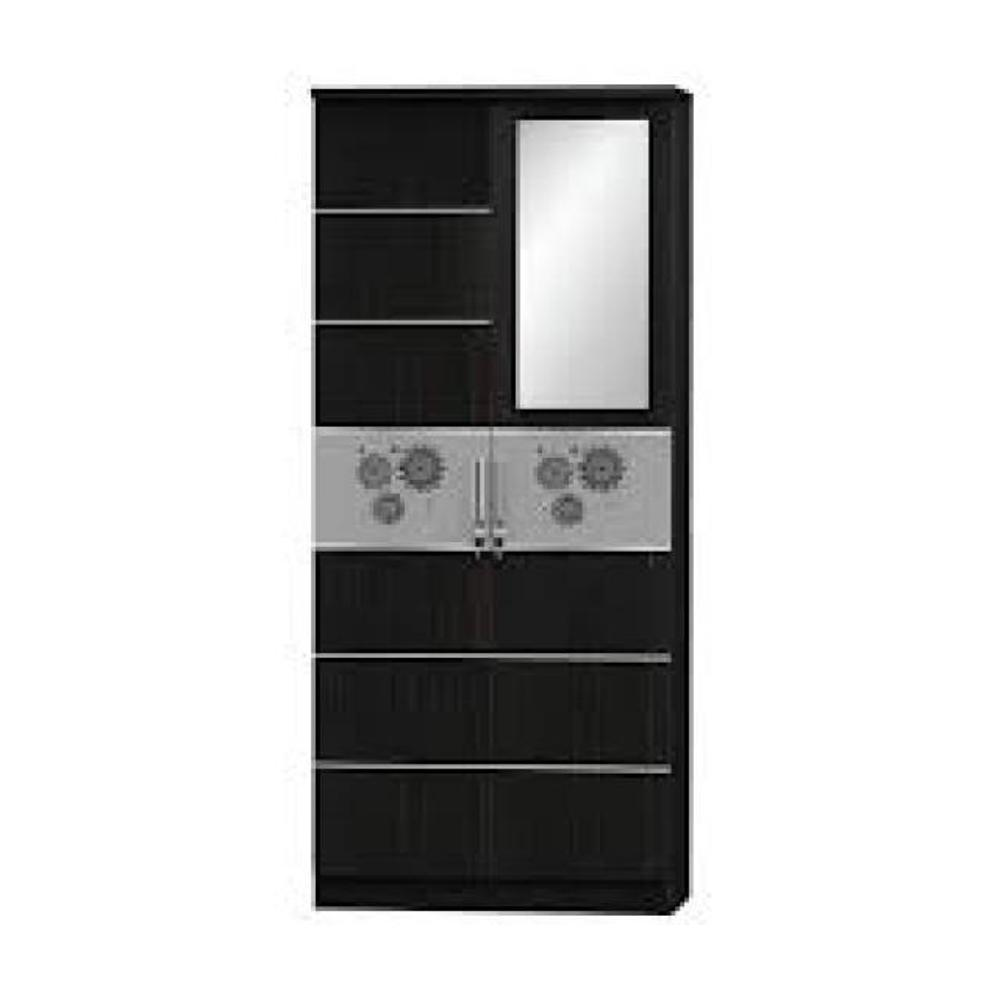cabinet: (308, 83, 695, 921)
